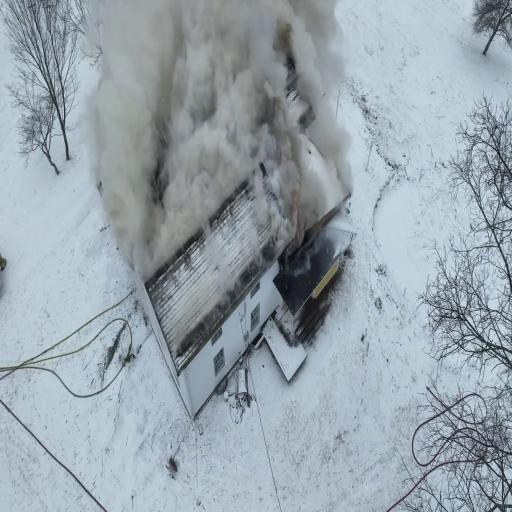smoke: (254, 36, 310, 201)
